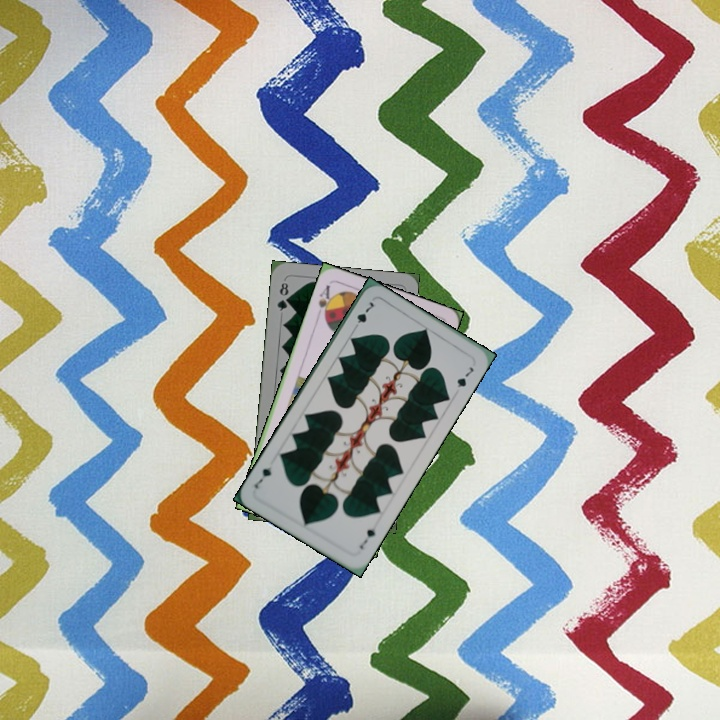G7: (349, 297, 376, 333), (355, 521, 380, 552)
G8: (273, 278, 291, 314)
SA: (314, 281, 336, 322)
